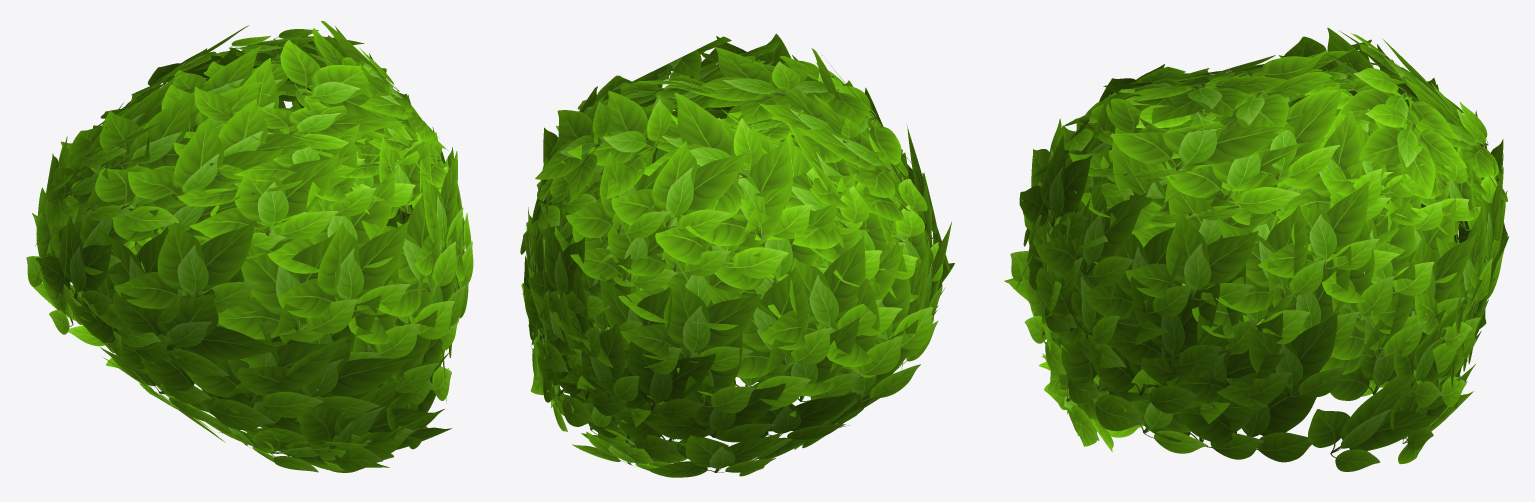
The model's file is bush 02.fbx.
3 renders of one model, left to right at view 1: azimuth 30°, elevation 25°; view 2: azimuth 150°, elevation 25°; view 3: azimuth 270°, elevation 25°, orthographic. The views are drawn at different scales.
Visible parts, largest first — view 1: polySurface324; view 2: polySurface324; view 3: polySurface324.
Part boxes in pixels (<box>): polySurface324: <box>26,21,473,472</box>; polySurface324: <box>520,33,954,477</box>; polySurface324: <box>1004,27,1509,471</box>.
Bounding box in the file's own units: 5.52 × 5.24 × 5.96.
